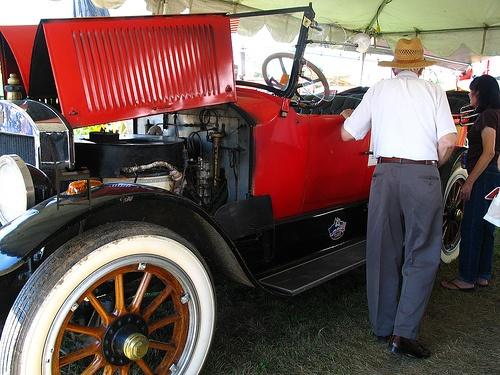tampered: (48, 135, 91, 210)
